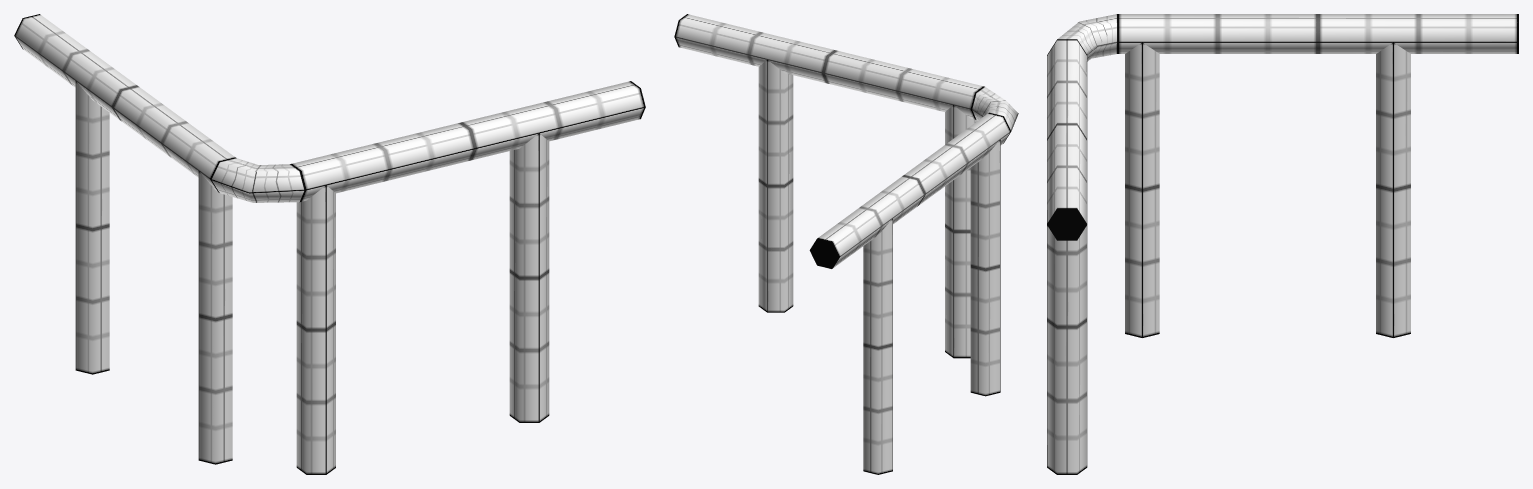
Rendered from fence-2.fbx.
3 views of the same model, side by side, from view 1: azimuth 30°, elevation 25°; view 2: azimuth 150°, elevation 25°; view 3: azimuth 270°, elevation 25° (orthographic). The views are drawn at different scales.
Parts seen in each view (by area): view 1: Object; view 2: Object, Zminus; view 3: Object, Xplus.
Part boxes in pixels (x1,y1,x2,y2): Object: [14, 14, 645, 474]; Object: [674, 14, 1018, 474]; Zminus: [809, 238, 839, 268]; Object: [1047, 14, 1518, 474]; Xplus: [1047, 209, 1086, 240].
Size of the model in its own units: 94 by 68.46 by 94.
